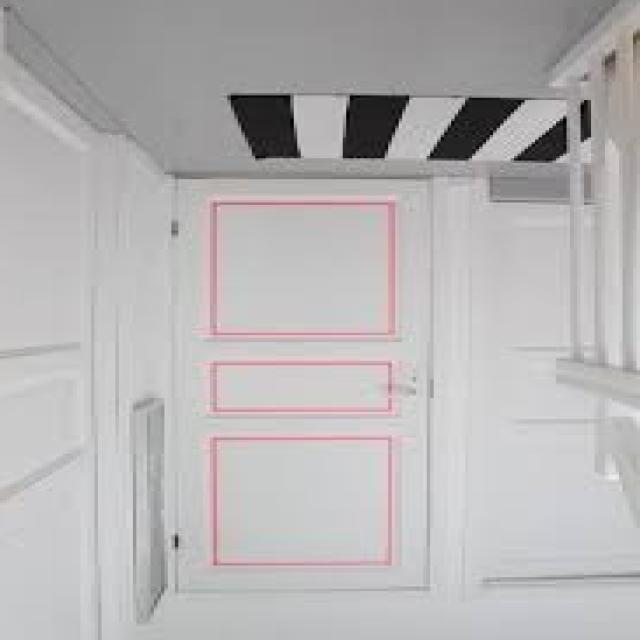door: (171, 178, 434, 595)
